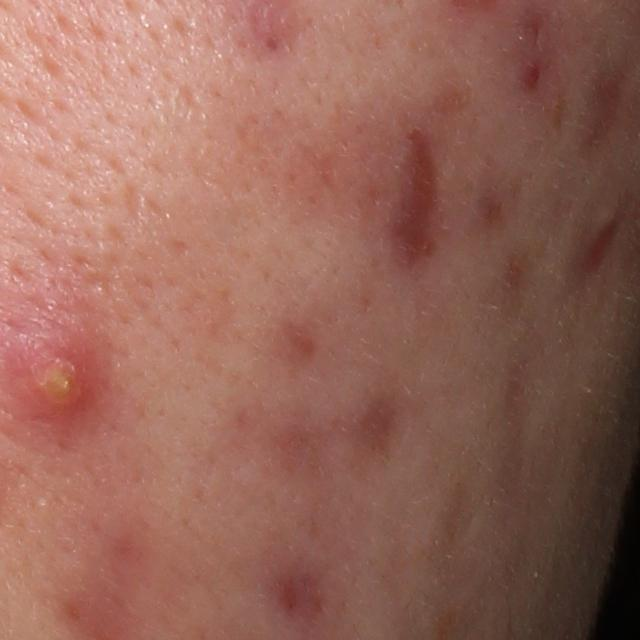atrophic_scar: (400, 138, 439, 271), (501, 339, 534, 477), (582, 198, 631, 285), (589, 75, 625, 156), (438, 491, 476, 554)
papule: (513, 56, 548, 93)
pustule: (13, 334, 110, 433)
